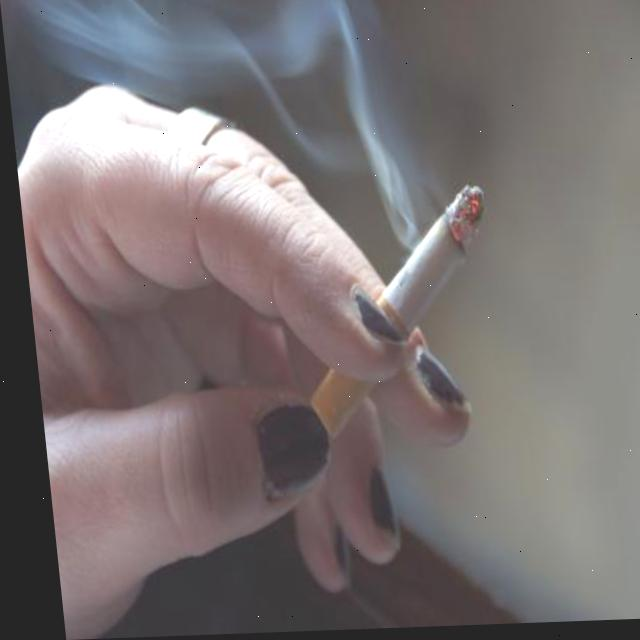cigarette: (281, 182, 504, 448)
